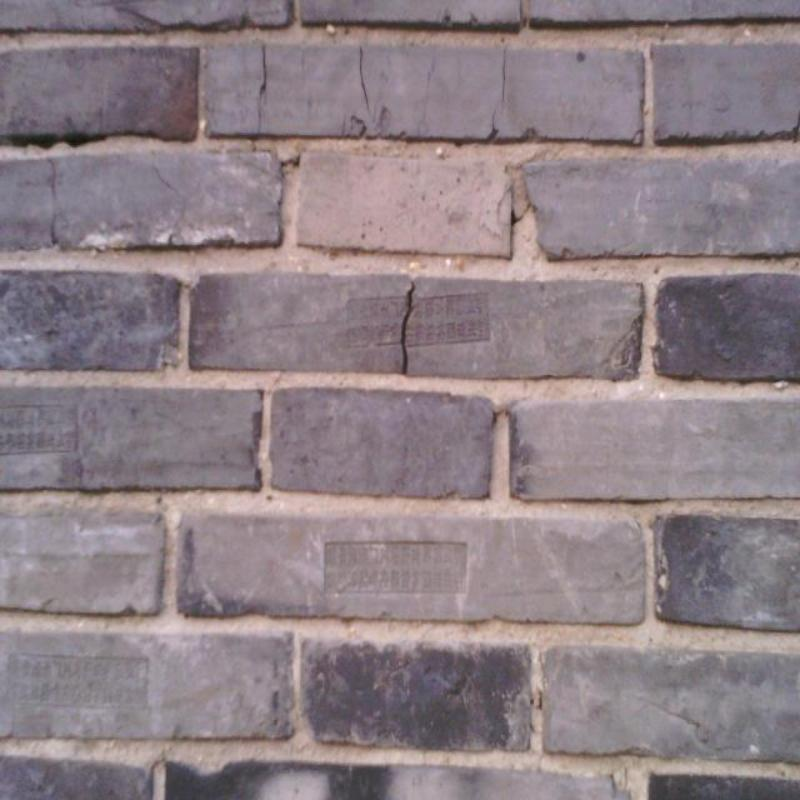pothole: (154, 156, 188, 246), (400, 281, 417, 374), (46, 159, 60, 245), (10, 136, 105, 146), (258, 45, 268, 134), (359, 48, 371, 110), (511, 202, 531, 226), (486, 111, 499, 140), (501, 50, 506, 101), (492, 409, 509, 422), (281, 158, 300, 166)
